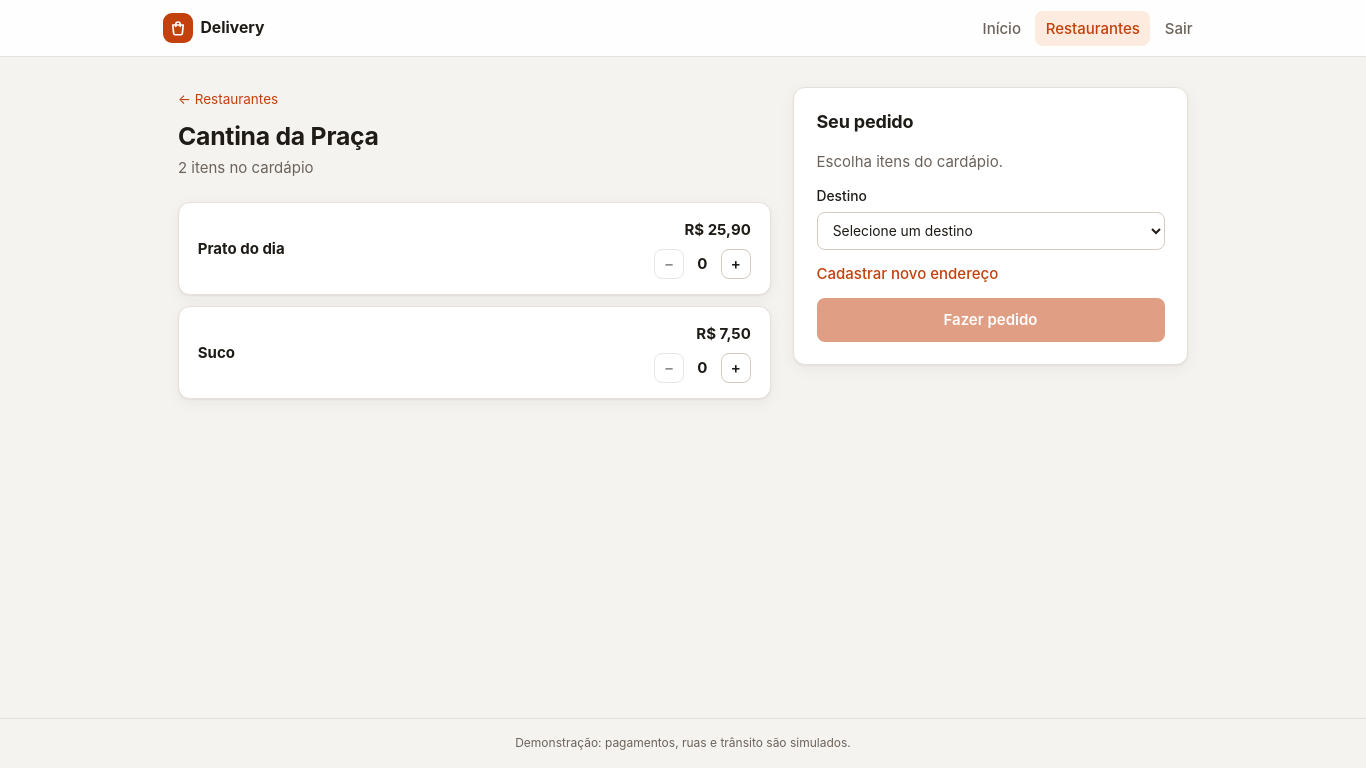
Test: checkout › saves a new address and selects it
This screenshot has width=1366, height=768.
Expected: the heading "Cantina da Praça" is shown, top-left (178, 121), bottom-right (379, 152)
Step 1. Click the button "Cadastrar novo endereço" → (907, 274), box top-left (816, 262), bottom-right (998, 286)
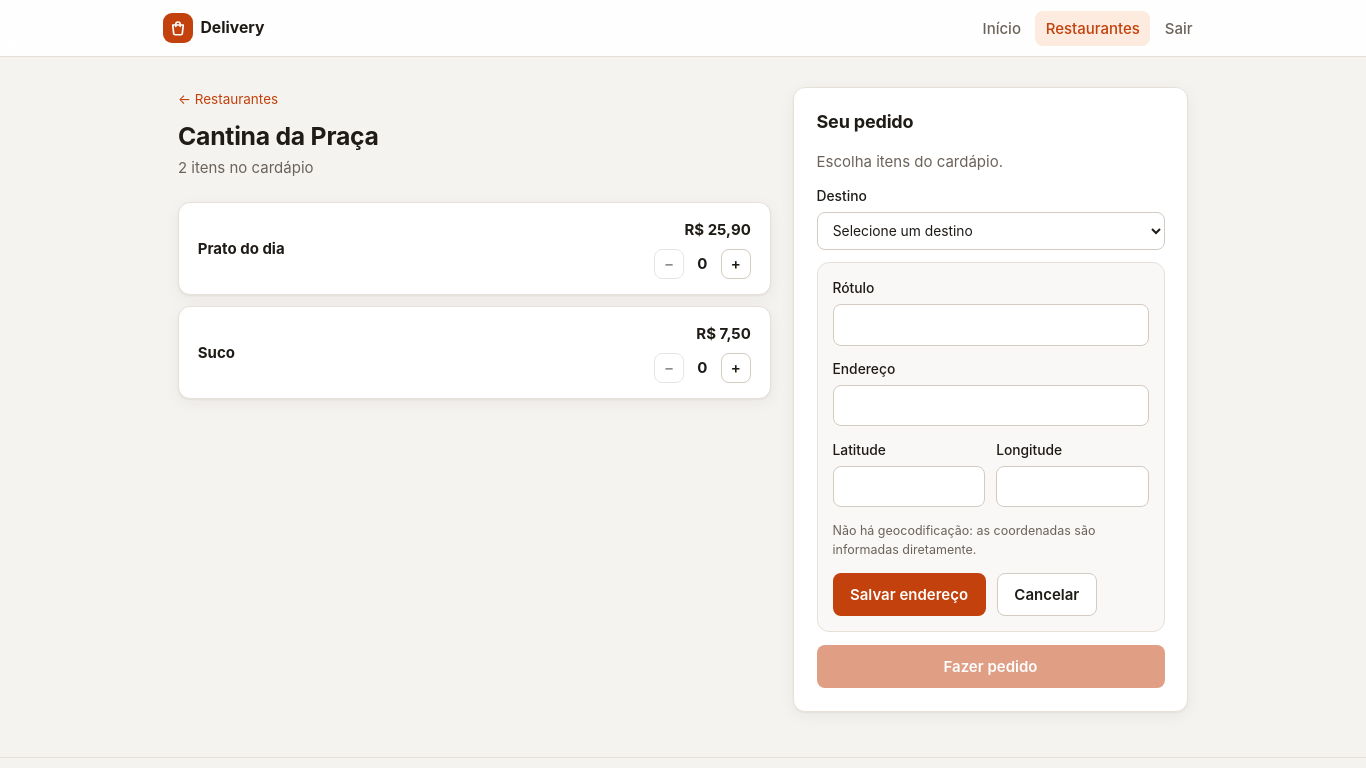
Step 2. Type "Trabalho" into the field labelled "Rótulo" → (990, 325), box top-left (832, 304), bottom-right (1148, 346)
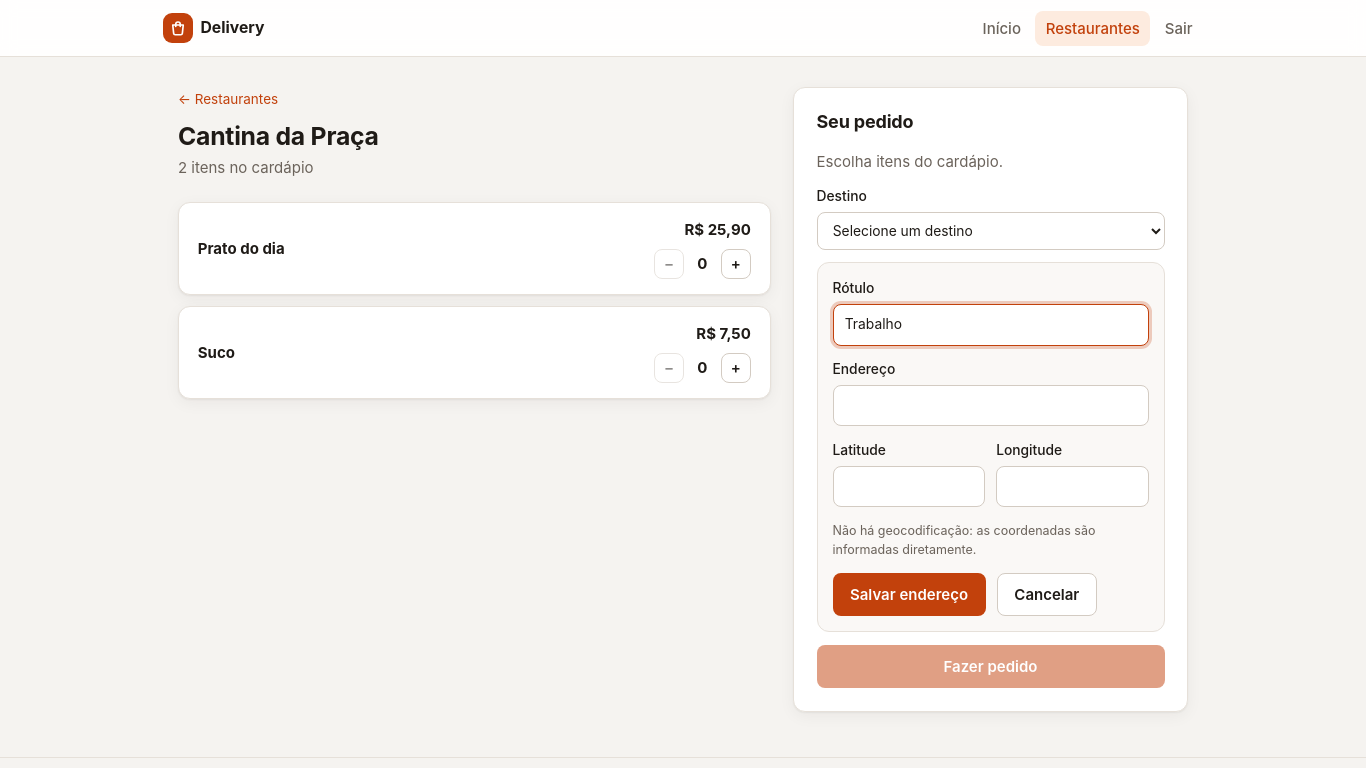
Step 3. Type "Ponto C" into the field labelled "Endereço" → (990, 406), box top-left (832, 385), bottom-right (1148, 426)
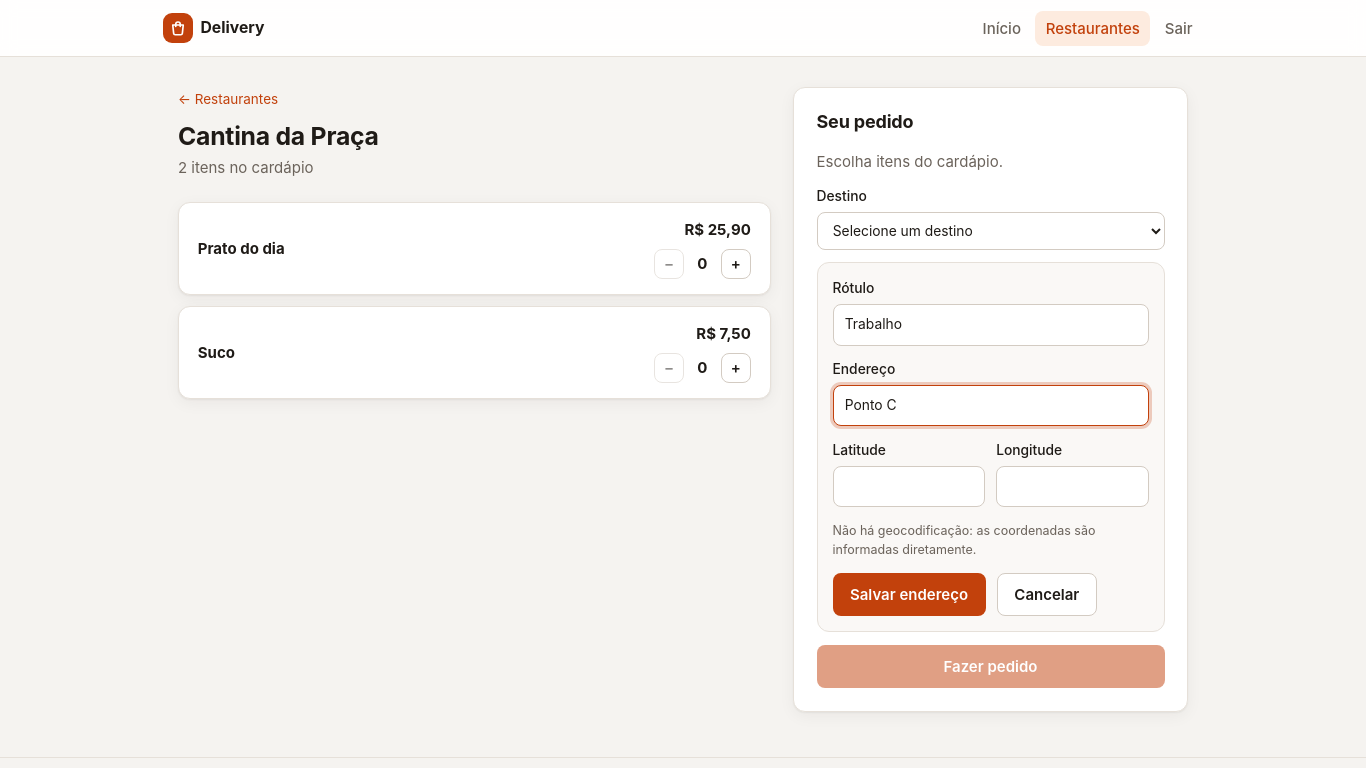
Step 4. Type "-23.561" into the field labelled "Latitude" → (909, 486), box top-left (832, 466), bottom-right (985, 507)
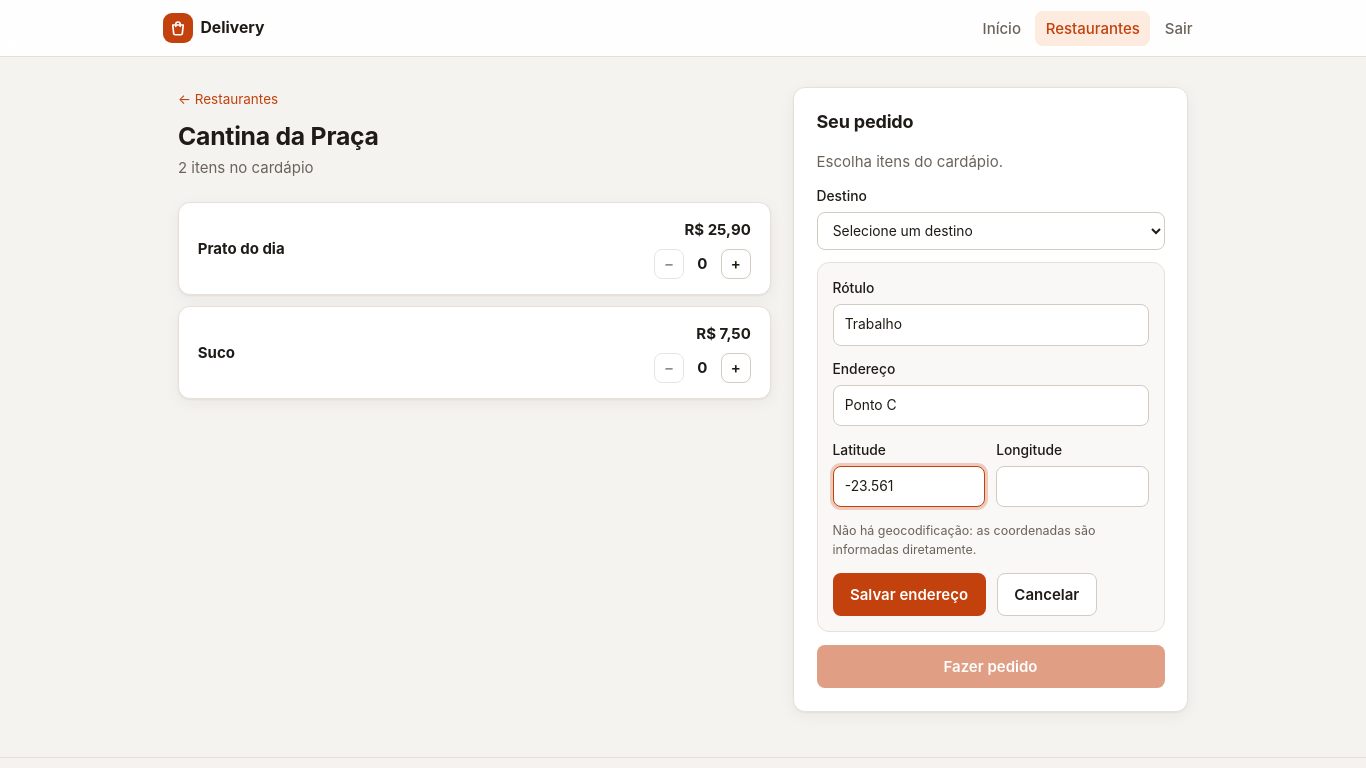
Step 5. Type "-46.656" into the field labelled "Longitude" → (1072, 486), box top-left (996, 466), bottom-right (1148, 507)
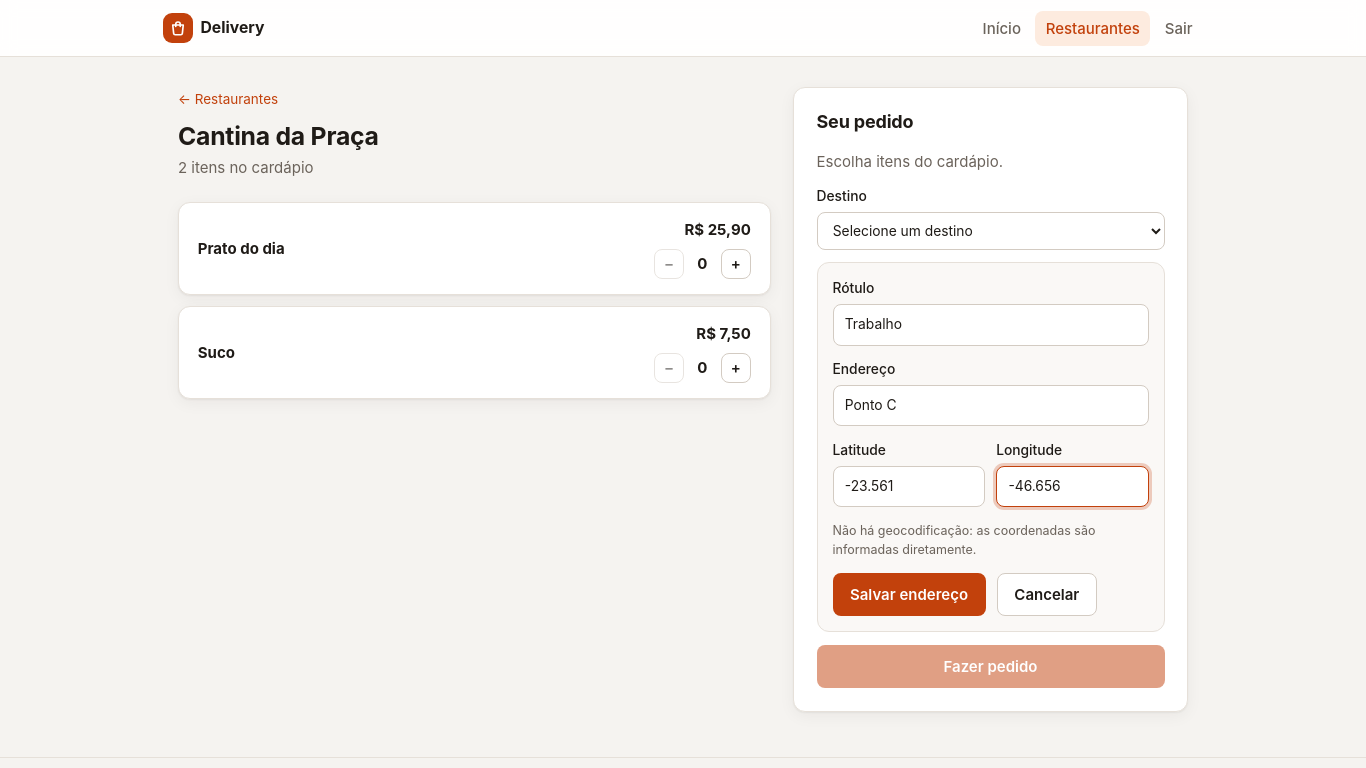
Step 6. Click the button "Salvar endereço" → (909, 595), box top-left (832, 573), bottom-right (986, 616)
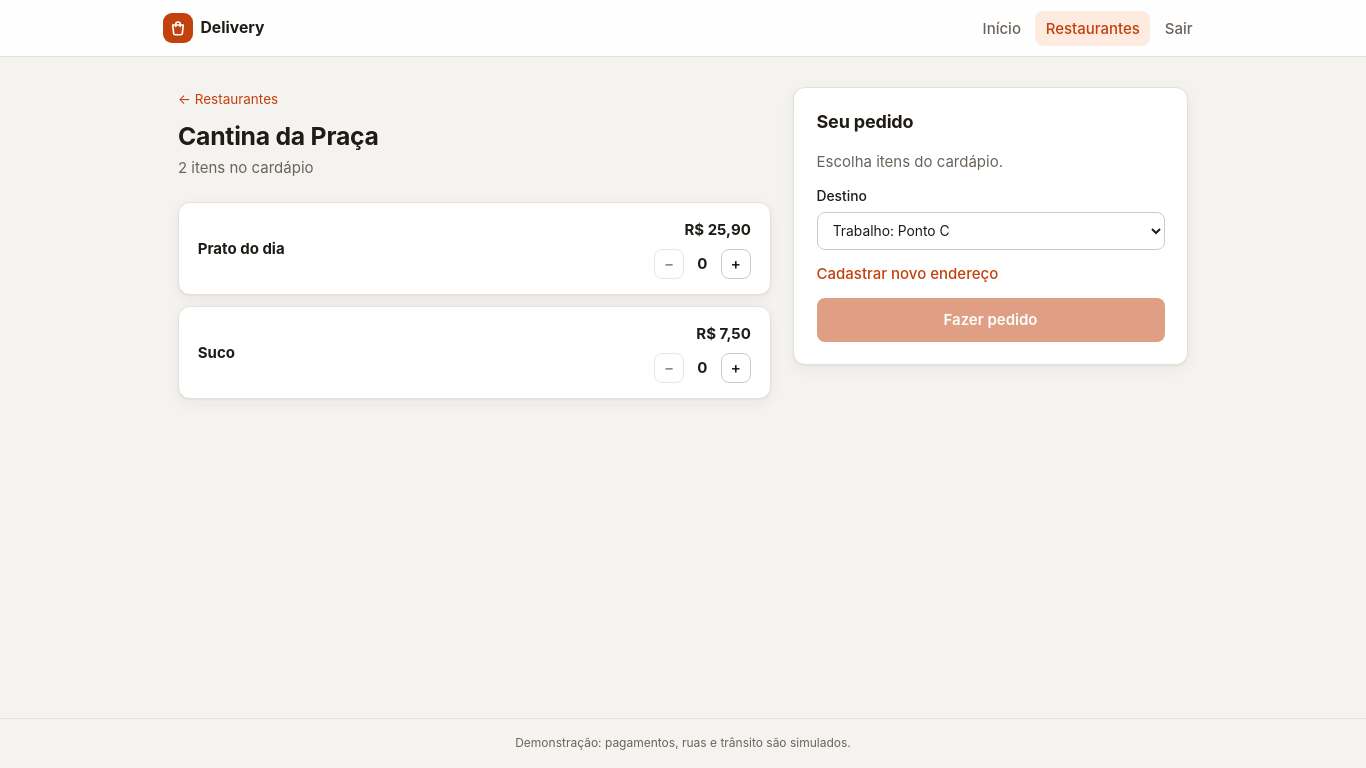
Now the dropdown labelled "Destino" shows "Trabalho: Ponto C", box top-left (816, 212), bottom-right (1164, 250)
